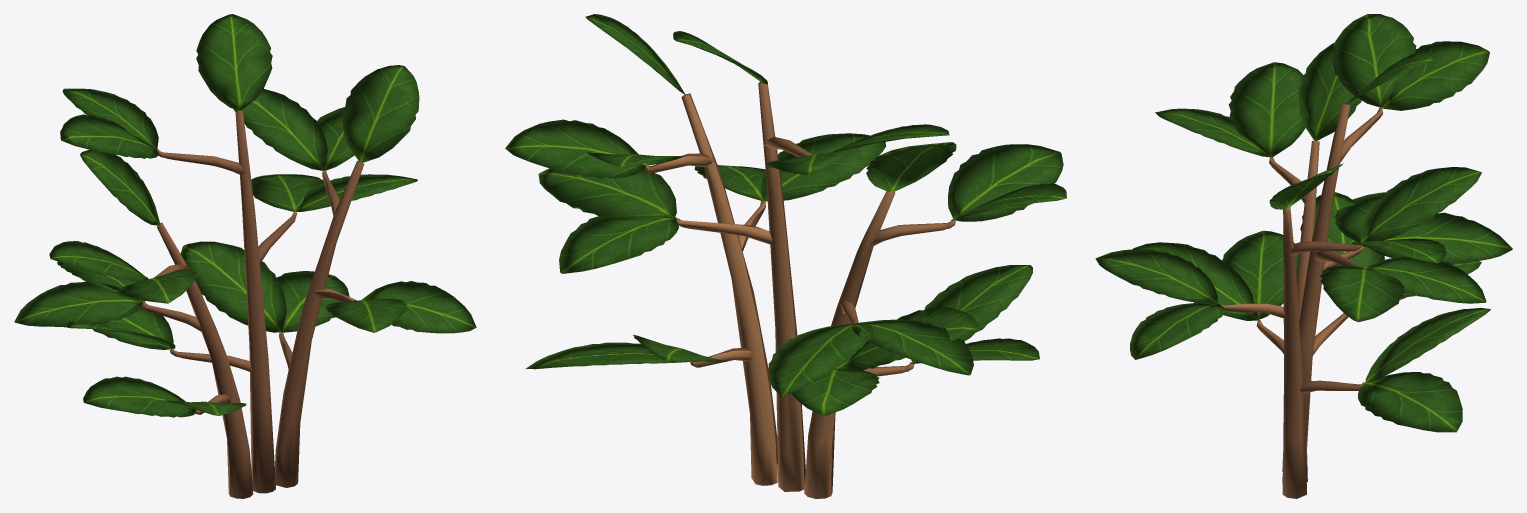
Rendered from NP_Blackberry_Young_LOD1.fbx.
3 renders of one model, left to right at view 1: azimuth 30°, elevation 25°; view 2: azimuth 150°, elevation 25°; view 3: azimuth 270°, elevation 25°, orthographic. The views are drawn at different scales.
Visible parts, largest first — view 1: NP_Blackberry_Young; view 2: NP_Blackberry_Young; view 3: NP_Blackberry_Young.
Boxes of the visible parts, x1,y1,x2,y2 form: NP_Blackberry_Young: (14, 14, 476, 498); NP_Blackberry_Young: (505, 14, 1066, 498); NP_Blackberry_Young: (1095, 14, 1512, 498).
Size of the model in its own units: 59.27 by 58.14 by 50.09.
